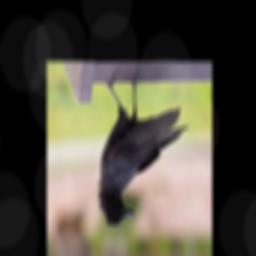Crow: (97, 71, 189, 227)
